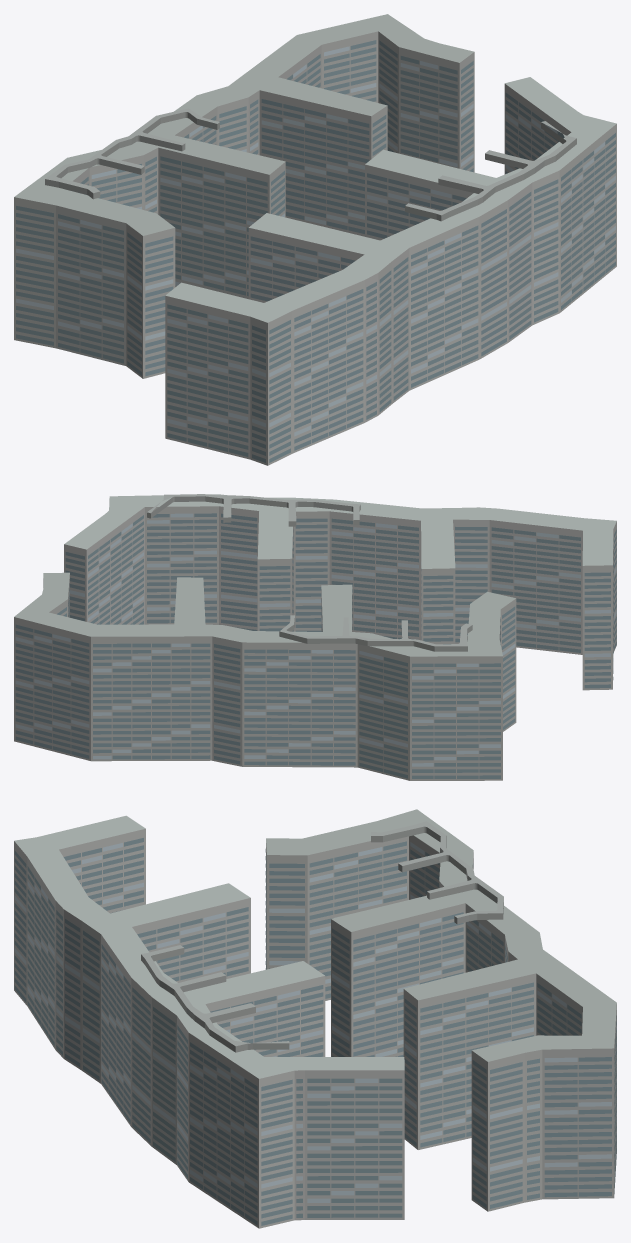
Rendered from apt-a10024421.glb.
The picture shows the model from 3 angles, top to bottom: view 1: azimuth 30°, elevation 25°; view 2: azimuth 150°, elevation 25°; view 3: azimuth 270°, elevation 25°; orthographic projection. The views are drawn at different scales.
Parts seen in each view (by area): view 1: apt-a10024421; view 2: apt-a10024421; view 3: apt-a10024421.
Boxes of the visible parts, <box> form: apt-a10024421: <box>14,14,616,465</box>; apt-a10024421: <box>14,494,616,780</box>; apt-a10024421: <box>14,809,616,1228</box>.
Size of the model in its own units: 219 by 59 by 207.
